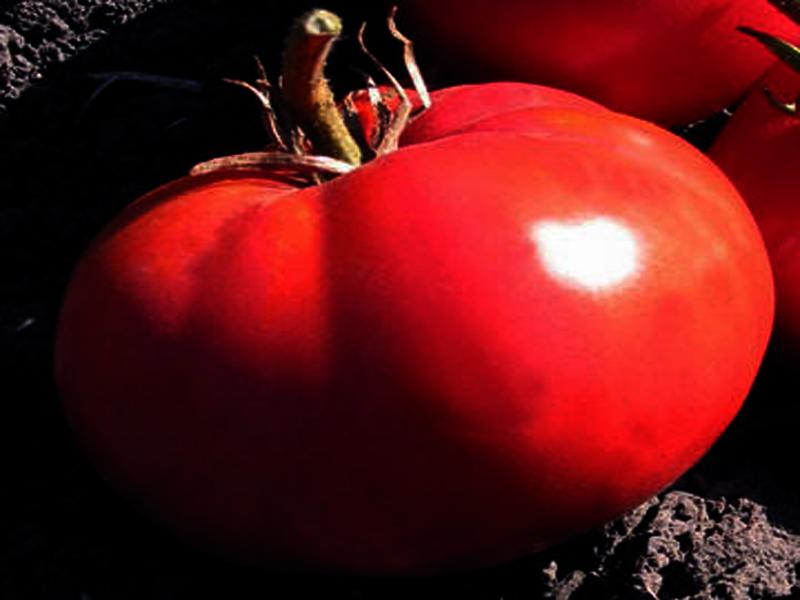Tomato: (52, 85, 775, 577)
